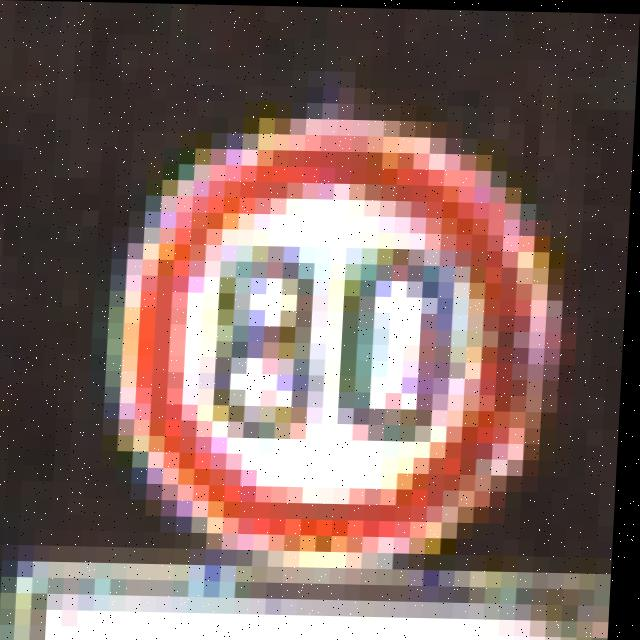speed_limit_80: (98, 138, 591, 568)
